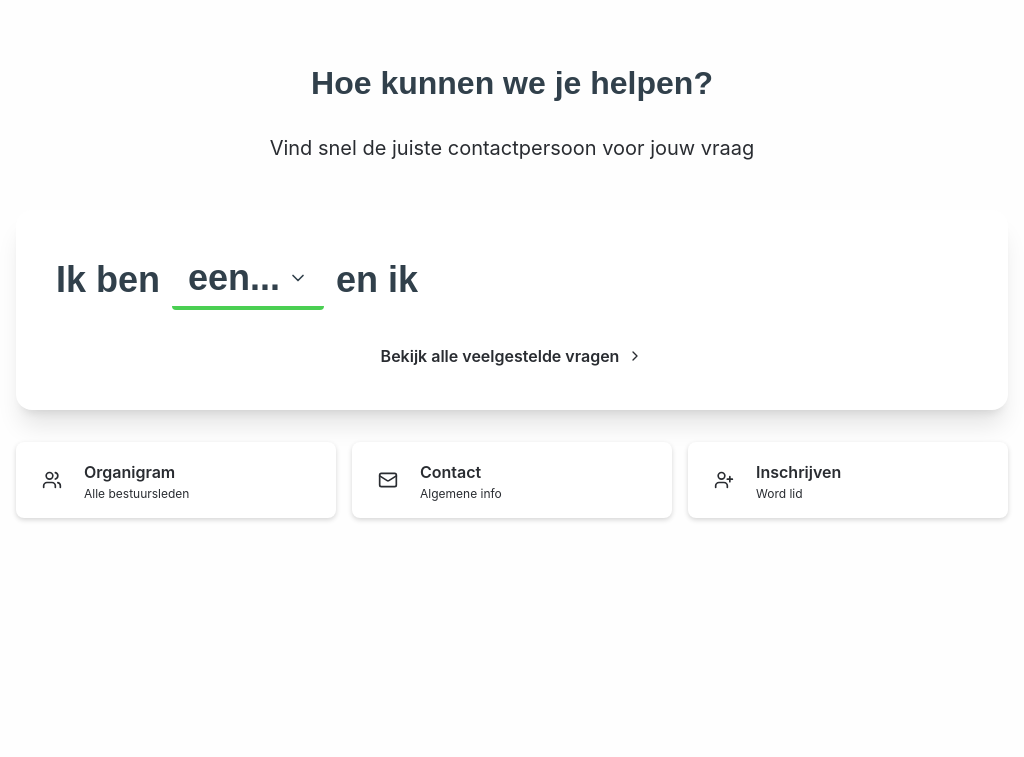
it: ResponsibilityBlock › Interactive Elements › shows question input after role selection
Click dropdown and select ouder
Click the button "een..." at coordinates (248, 280), box [172,250,324,310]
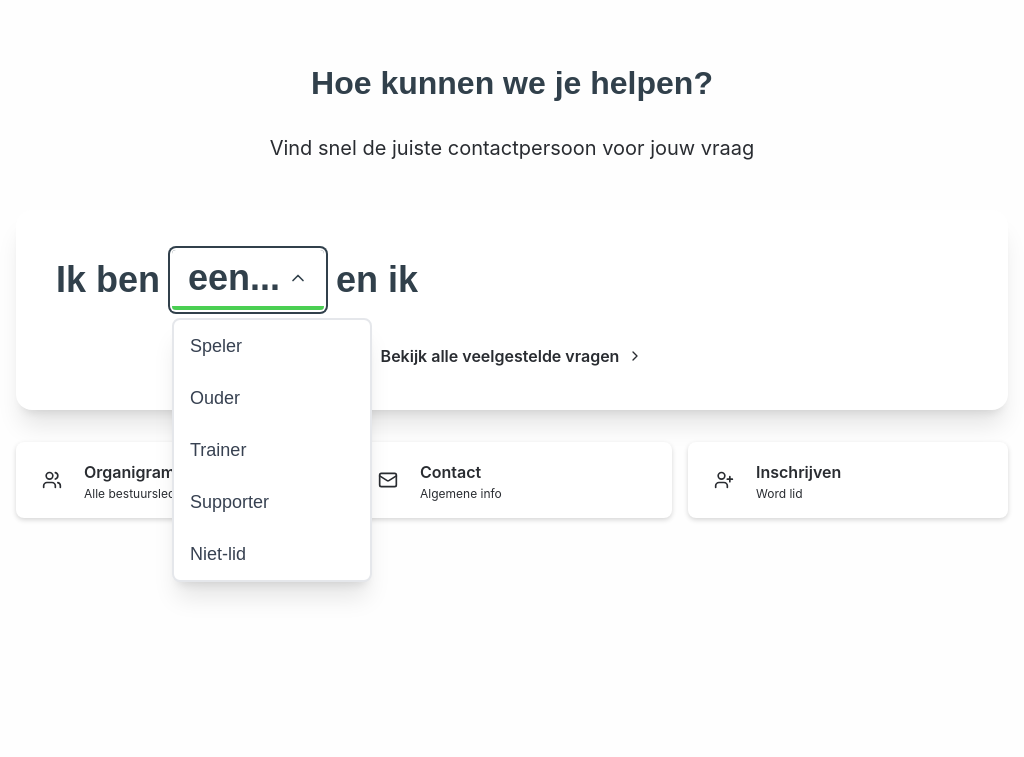
Click the button "Ouder" at coordinates (272, 398), box [174,372,370,424]
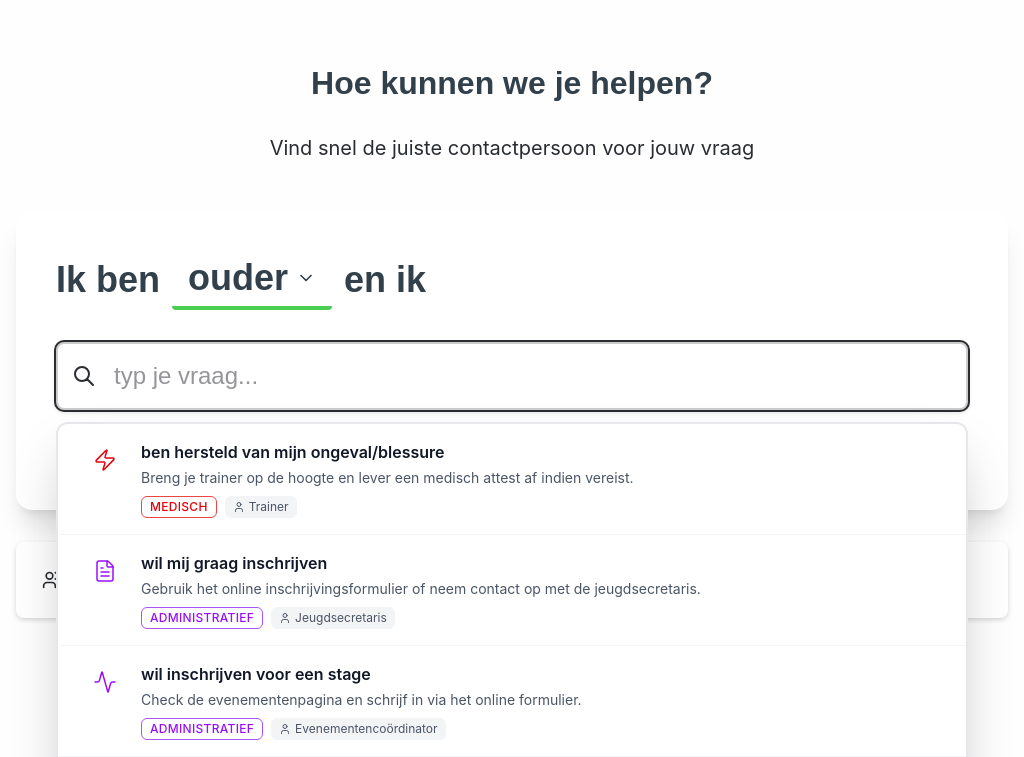
Expected: the field with placeholder "typ je vraag..." is shown, [56,342,968,410]
